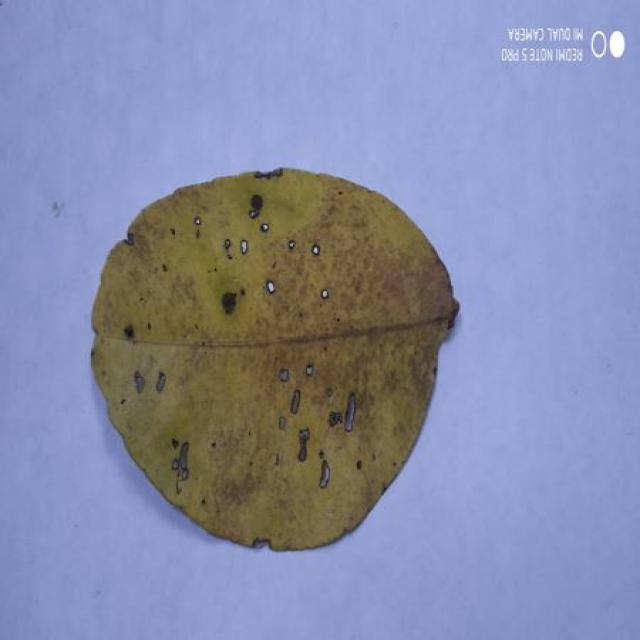Citrus bacterial spot: (92, 169, 458, 549)
